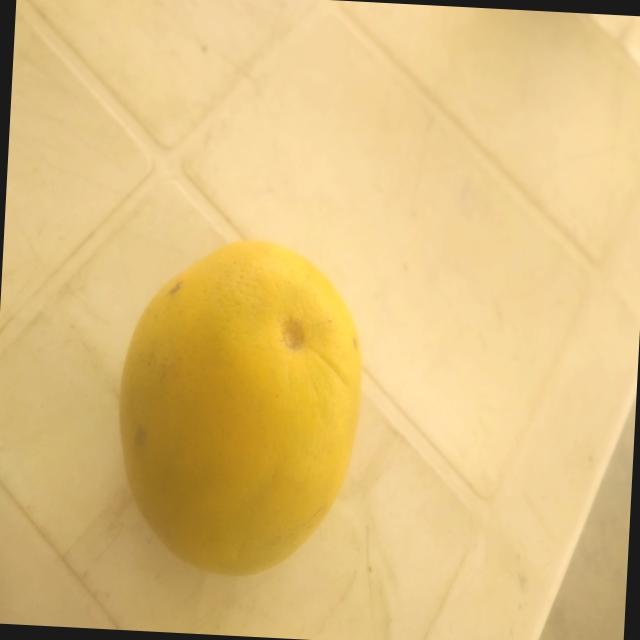agrume: (108, 227, 376, 585)
